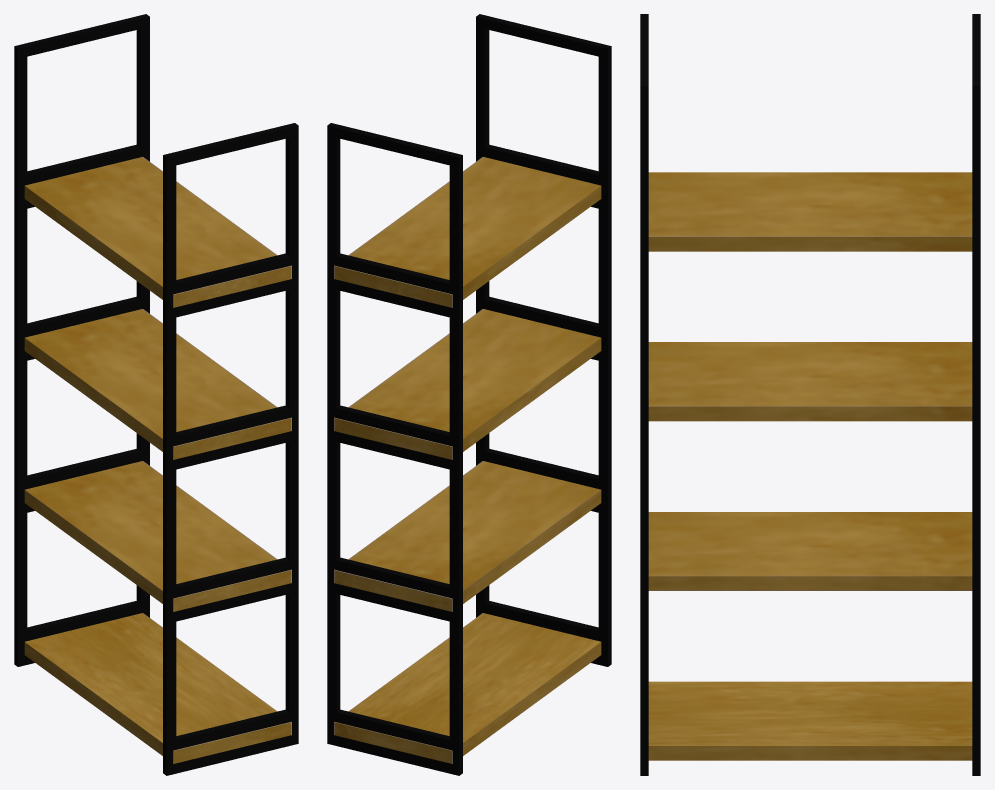
The model's file is shelf.glb.
3 renders of one model, left to right at view 1: azimuth 30°, elevation 25°; view 2: azimuth 150°, elevation 25°; view 3: azimuth 270°, elevation 25°, orthographic. The views are drawn at different scales.
Visible parts, largest first — view 1: Cube-col; view 2: Cube-col; view 3: Cube-col.
Part boxes in pixels (x1=…): Cube-col: x1=14, y1=14, x2=298, y2=775; Cube-col: x1=327, y1=14, x2=611, y2=775; Cube-col: x1=640, y1=14, x2=980, y2=775.
Bounding box in the file's own units: 2 × 8.94 × 4.
Materials: 2 (1 with a texture image).
